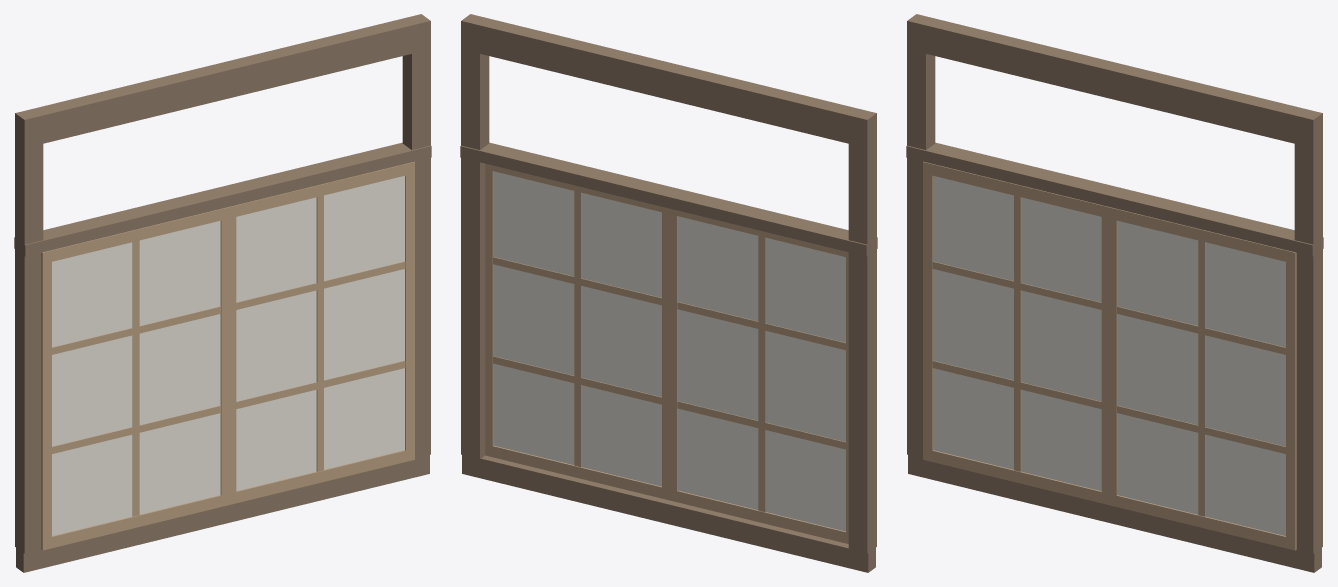
The model's file is martial-arts-dojo-and-fight-stages-dojo-sliding-door-c50f4bbe__18064.glb.
The picture shows the model from 3 angles, left to right: view 1: azimuth 30°, elevation 25°; view 2: azimuth 150°, elevation 25°; view 3: azimuth 330°, elevation 25°; orthographic projection.
Visible parts, largest first — view 1: door-left (×2), door-right (×2), dojo-sliding-door; view 2: dojo-sliding-door, door-right (×2), door-left (×2); view 3: door-left (×2), door-right (×2), dojo-sliding-door.
Part boxes in pixels (x1,y1,x2,y2): door-left (×2): [41, 207, 230, 550]; door-right (×2): [226, 161, 414, 504]; dojo-sliding-door: [14, 14, 431, 572]; dojo-sliding-door: [460, 14, 877, 572]; door-right (×2): [485, 163, 671, 500]; door-left (×2): [667, 208, 848, 543]; door-left (×2): [923, 161, 1111, 505]; door-right (×2): [1107, 207, 1296, 550]; dojo-sliding-door: [906, 14, 1323, 572].
Bounding box in the file's own units: 3 × 3.2 × 0.1449.
